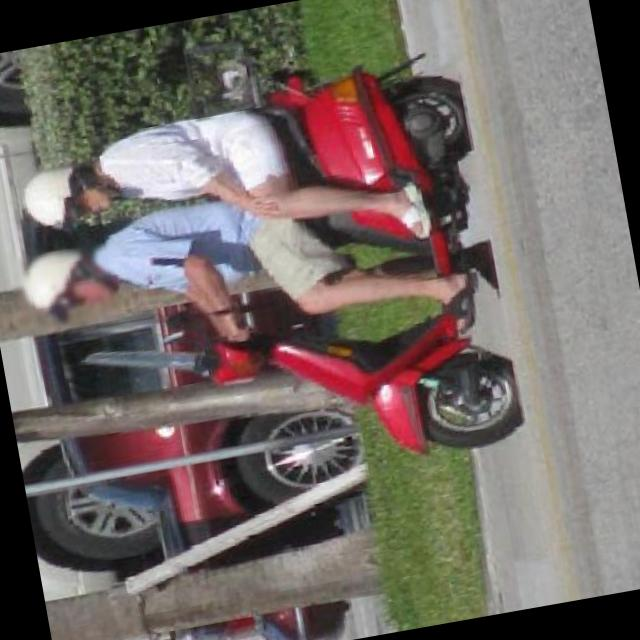With Helmet: (6, 236, 124, 334), (15, 154, 116, 236)
